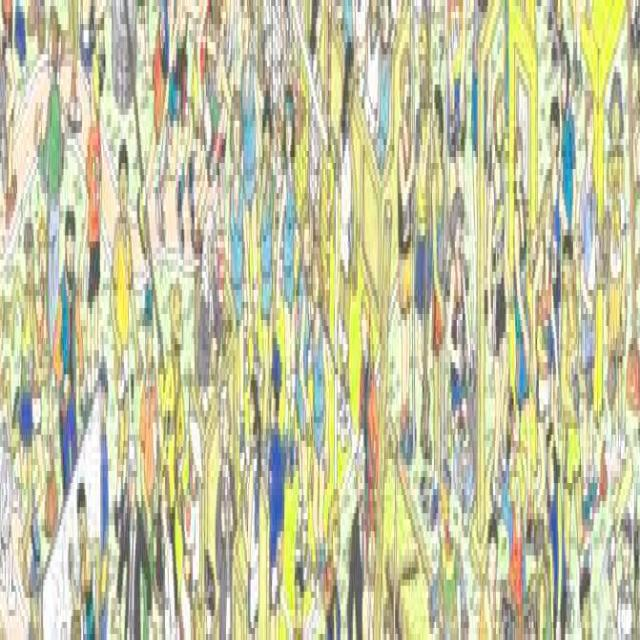waldo: (214, 127, 226, 223)
